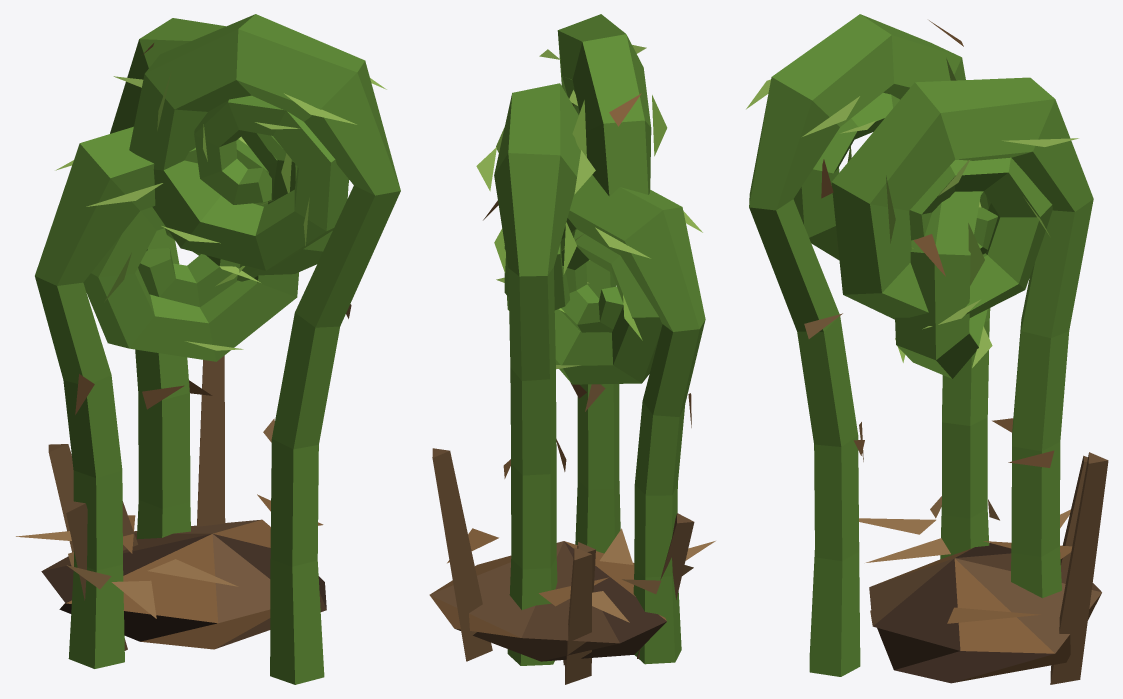
The model's file is fiddlehead3_v1.fbx.
The picture shows the model from 3 angles, left to right: view 1: azimuth 30°, elevation 25°; view 2: azimuth 150°, elevation 25°; view 3: azimuth 270°, elevation 25°; orthographic projection. The views are drawn at different scales.
Visible parts, largest first — view 1: fiddlehead3_v1; view 2: fiddlehead3_v1; view 3: fiddlehead3_v1.
Part boxes in pixels (<box>): fiddlehead3_v1: <box>16,14,400,684</box>; fiddlehead3_v1: <box>429,14,715,684</box>; fiddlehead3_v1: <box>746,14,1108,684</box>.
Size of the model in its own units: 18.41 by 41.26 by 21.4.
